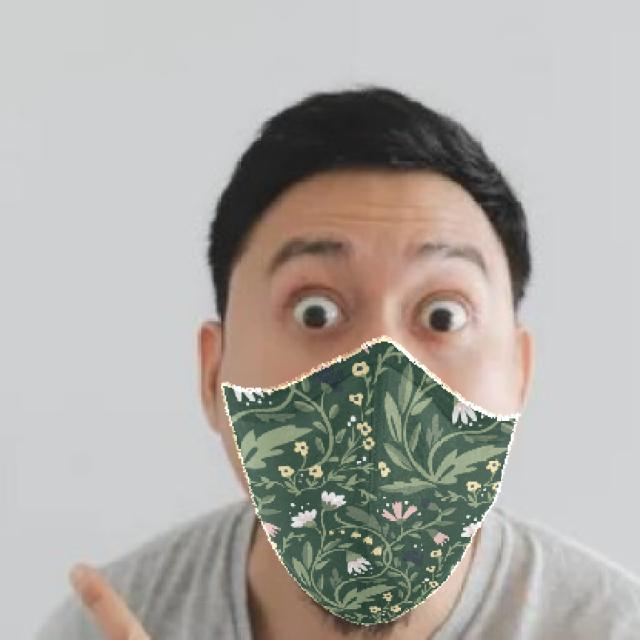mask: (213, 327, 546, 630)
